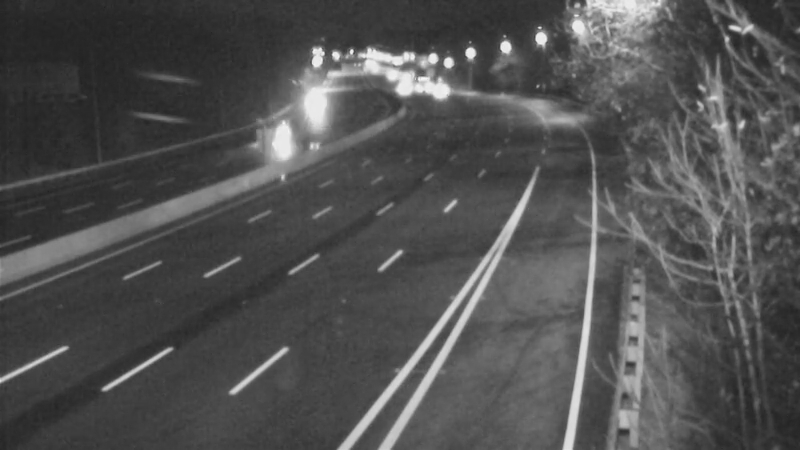vehicle: (396, 58, 446, 108), (377, 63, 427, 113), (414, 68, 464, 118), (260, 115, 310, 165), (291, 78, 341, 128)
